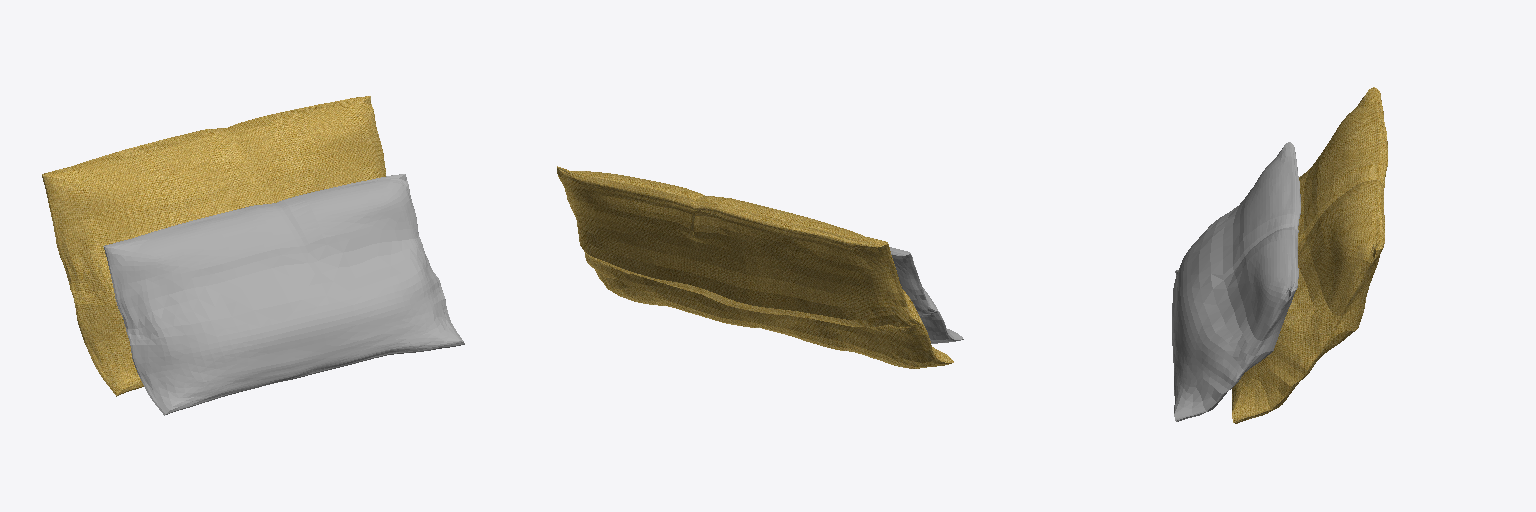
The picture shows the model from 3 angles: view 1: azimuth 30°, elevation 25°; view 2: azimuth 150°, elevation 25°; view 3: azimuth 270°, elevation 25°; orthographic projection.
Visible parts, largest first — view 1: pillow1, pillow; view 2: pillow, pillow1; view 3: pillow1, pillow.
Boxes of the visible parts, x1=… form: pillow1: x1=103, y1=174, x2=464, y2=415; pillow: x1=42, y1=96, x2=385, y2=396; pillow: x1=557, y1=166, x2=953, y2=368; pillow1: x1=890, y1=247, x2=963, y2=343; pillow1: x1=1172, y1=142, x2=1300, y2=421; pillow: x1=1232, y1=87, x2=1387, y2=423.
Bounding box in the file's own units: 8.53 × 4.35 × 4.73.
2 materials, 1 textured.